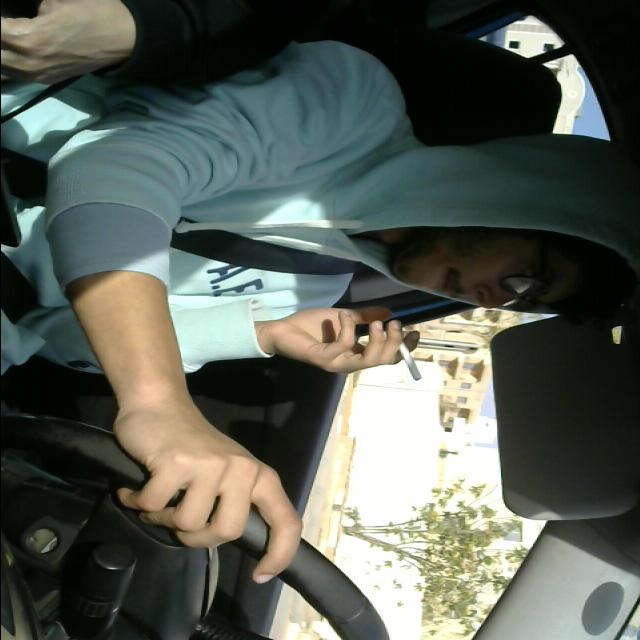smoking: (384, 315, 433, 389)
